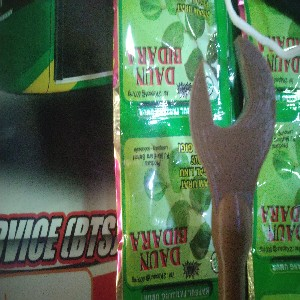spanner: (188, 35, 276, 300)
